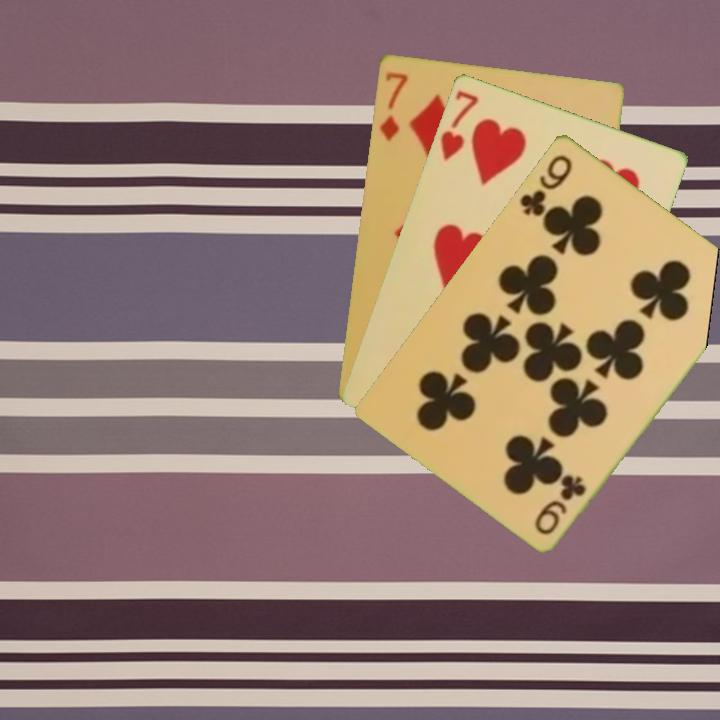7d: (375, 68, 410, 143)
7h: (436, 86, 482, 164)
9c: (516, 150, 575, 219), (531, 470, 590, 538)
